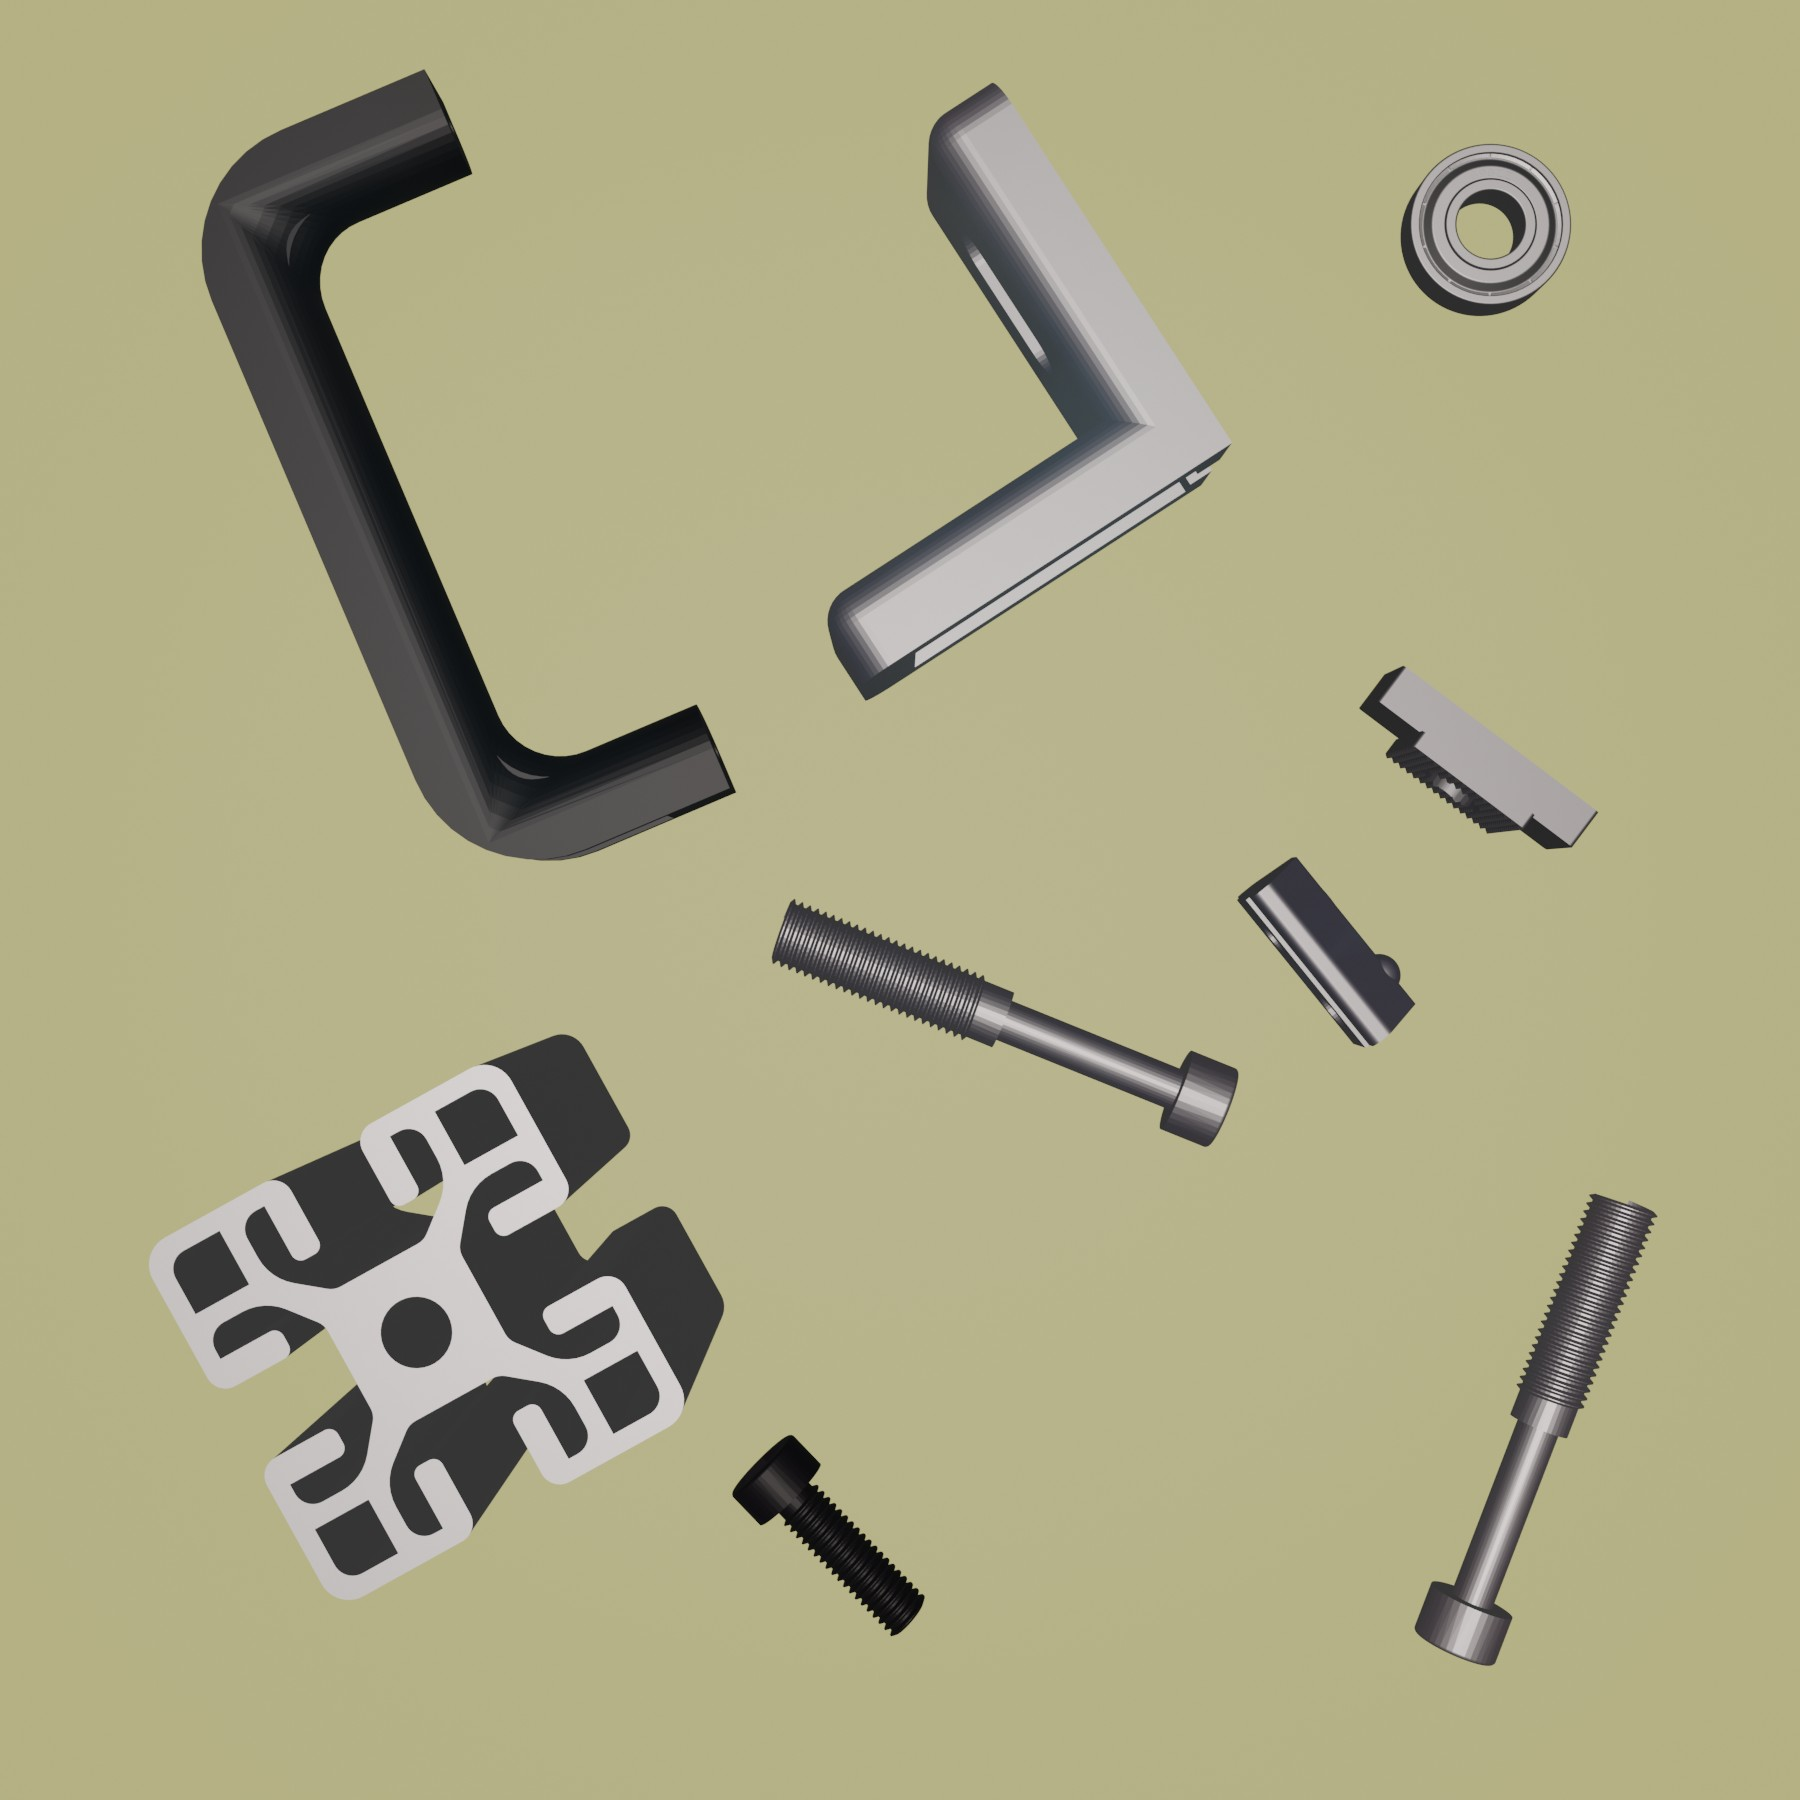Aluminium Extension: (143, 1034, 729, 1604)
Ball Bearing: (1398, 142, 1576, 320)
Multiwinkel: (824, 81, 1235, 707)
Pull Handle: (198, 64, 737, 864)
Shoulder Socket Head Cap Screw: (766, 897, 1240, 1149), (1413, 1188, 1658, 1670)
Socket Head Cap Screw: (729, 1431, 925, 1638)
T Nut Square: (1357, 661, 1602, 852)
T Spring Nut: (1236, 855, 1418, 1052)
